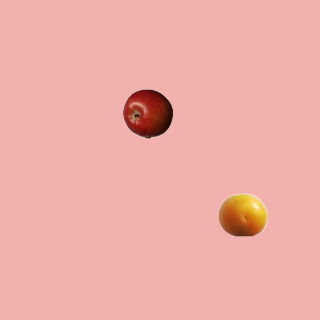Apple Braeburn: (122, 88, 172, 138)
Cherry Wax Yellow: (217, 189, 267, 239)
